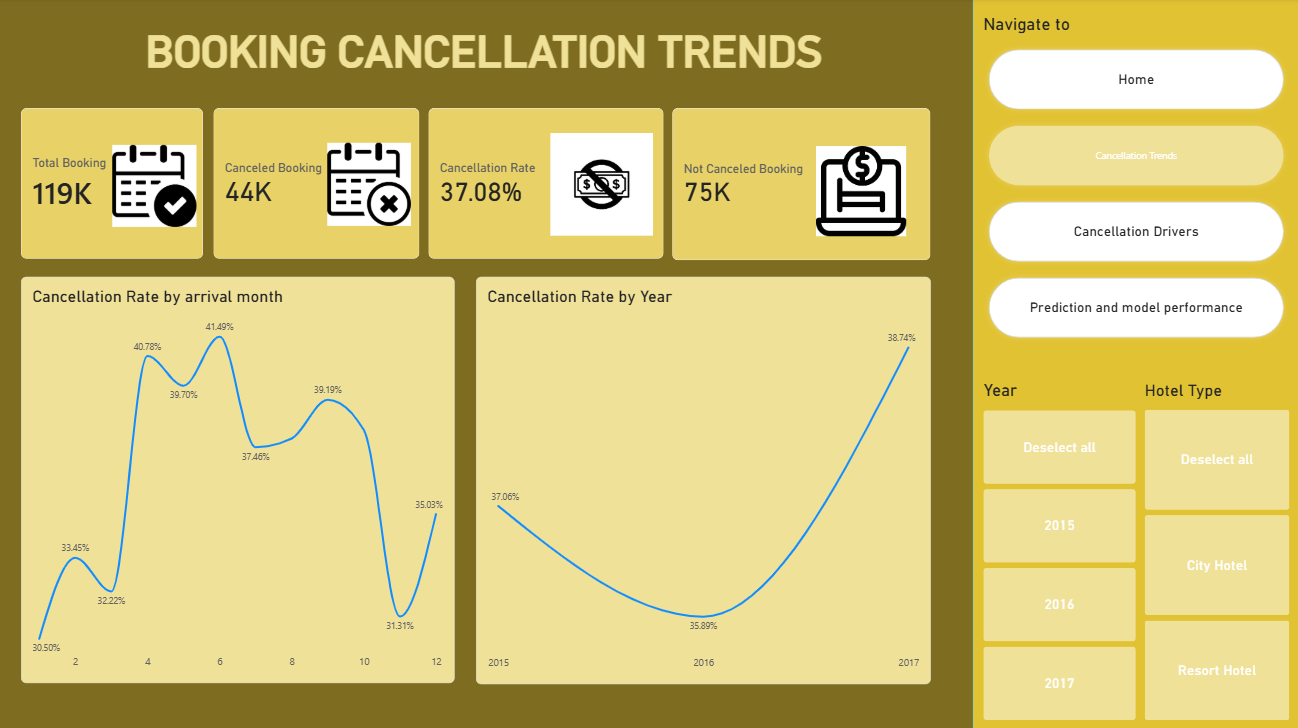

What the dashboard file says about the page in this screenshot:
{"tool":"powerbi","page":{"name":"Cancellation Trends","canvas":[1920,1080],"ordinal":1},"visuals":[{"type":"cardVisual","fields":{"Data":["hotel_cancellation_cleaned.Total_booking"]},"box":[36.8,162,268.7,222.7],"z":0},{"type":"cardVisual","fields":{"Data":["hotel_cancellation_cleaned.Canceled_booking"]},"box":[320.2,162,303.7,222.7],"z":1000},{"type":"cardVisual","fields":{"Data":["hotel_cancellation_cleaned.Cancellation_rate"]},"box":[636.8,162,346,222.7],"z":2000},{"type":"cardVisual","fields":{"Data":["hotel_cancellation_cleaned.Not_canceled_booking"]},"box":[995.7,162,381,224.5],"z":3000},{"type":"lineChart","title":"Cancellation Rate by arrival month","fields":{"Category":["hotel_cancellation_cleaned.arrival_month_num"],"Y":["hotel_cancellation_cleaned.Cancellation_rate"]},"box":[36.4,410.9,638.2,598.2],"z":4000},{"type":"lineChart","title":"Cancellation Rate by Year","fields":{"Category":["hotel_cancellation_cleaned.arrival_date_year"],"Y":["hotel_cancellation_cleaned.Cancellation_rate"]},"box":[706.8,410.4,669.9,600],"z":5000},{"type":"image","box":[171.2,204.3,123.6,145.5],"z":6000},{"type":"image","box":[487.7,162,123.3,224.5],"z":7000},{"type":"image","box":[1207.4,198.8,132.5,171.2],"z":8000},{"type":"image","box":[809.8,198.8,163.8,150.9],"z":9000},{"type":"shape","box":[1437.4,0,482.2,1080.4],"z":10000},{"type":"advancedSlicerVisual","title":"Year","fields":{"Values":["hotel_cancellation_cleaned.arrival_date_year"]},"box":[1454,563.2,224.5,502.5],"z":11000},{"type":"advancedSlicerVisual","title":"Hotel Type","fields":{"Values":["hotel_cancellation_cleaned.hotel"]},"box":[1691.4,563.2,213.5,502.5],"z":12000},{"type":"pageNavigator","title":"Navigate to","box":[1454,23.9,450.9,484.1],"z":13000},{"type":"textbox","box":[36.8,40.5,1321.5,84.7],"z":14000}]}

Visuals, with their boxes in screenshot pixels (x1, y1, x2, y2), scaled from the page's 1920x1080 canvas onto the 1298x728 screenshot:
cardVisual - hotel_cancellation_cleaned.Total_booking: left=25, top=109, right=207, bottom=259
cardVisual - hotel_cancellation_cleaned.Canceled_booking: left=216, top=109, right=422, bottom=259
cardVisual - hotel_cancellation_cleaned.Cancellation_rate: left=431, top=109, right=664, bottom=259
cardVisual - hotel_cancellation_cleaned.Not_canceled_booking: left=673, top=109, right=931, bottom=261
"Cancellation Rate by arrival month" lineChart: left=25, top=277, right=456, bottom=680
"Cancellation Rate by Year" lineChart: left=478, top=277, right=931, bottom=681
image: left=116, top=138, right=199, bottom=236
image: left=330, top=109, right=413, bottom=261
image: left=816, top=134, right=906, bottom=249
image: left=547, top=134, right=658, bottom=236
shape: left=972, top=0, right=1297, bottom=727
"Year" advancedSlicerVisual: left=983, top=380, right=1135, bottom=718
"Hotel Type" advancedSlicerVisual: left=1143, top=380, right=1288, bottom=718
"Navigate to" pageNavigator: left=983, top=16, right=1288, bottom=342
textbox: left=25, top=27, right=918, bottom=84
